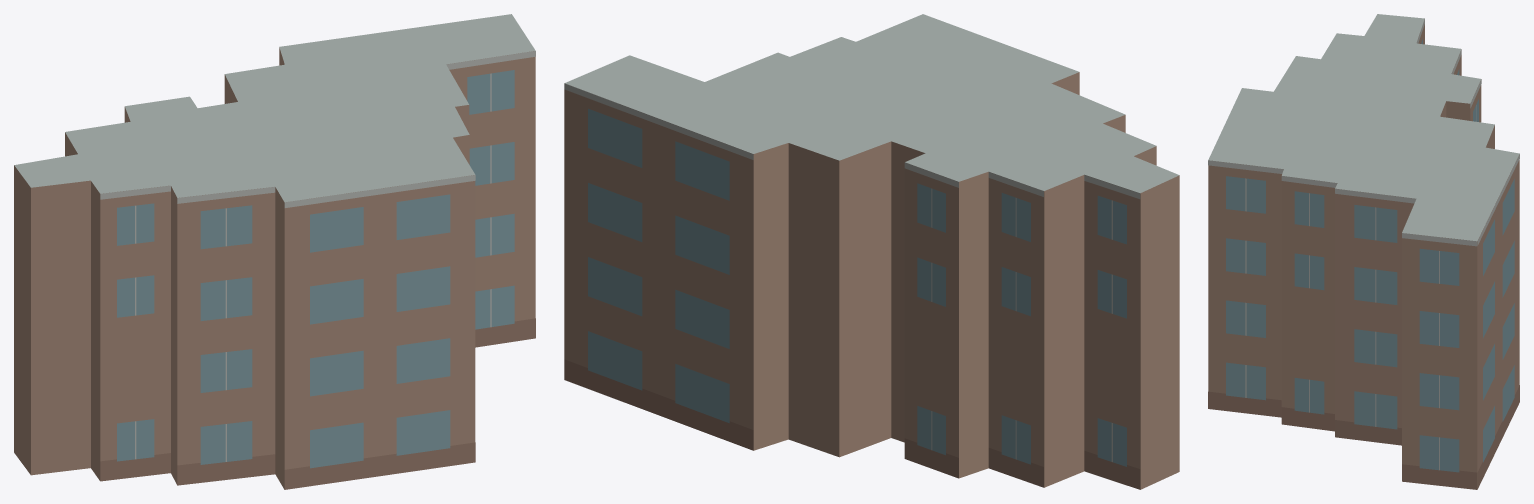
File: survey-upis-32526601.glb
The picture shows the model from 3 angles, left to right: view 1: azimuth 30°, elevation 25°; view 2: azimuth 150°, elevation 25°; view 3: azimuth 270°, elevation 25°; orthographic projection. The views are drawn at different scales.
Visible parts, largest first — view 1: survey-upis-32526601.tmp; view 2: survey-upis-32526601.tmp; view 3: survey-upis-32526601.tmp.
Part boxes in pixels (bbox=[...]): survey-upis-32526601.tmp: bbox=[14, 14, 535, 489]; survey-upis-32526601.tmp: bbox=[564, 14, 1179, 489]; survey-upis-32526601.tmp: bbox=[1208, 14, 1519, 489].
Size of the model in its own units: 23.14 by 11.8 by 13.42.
